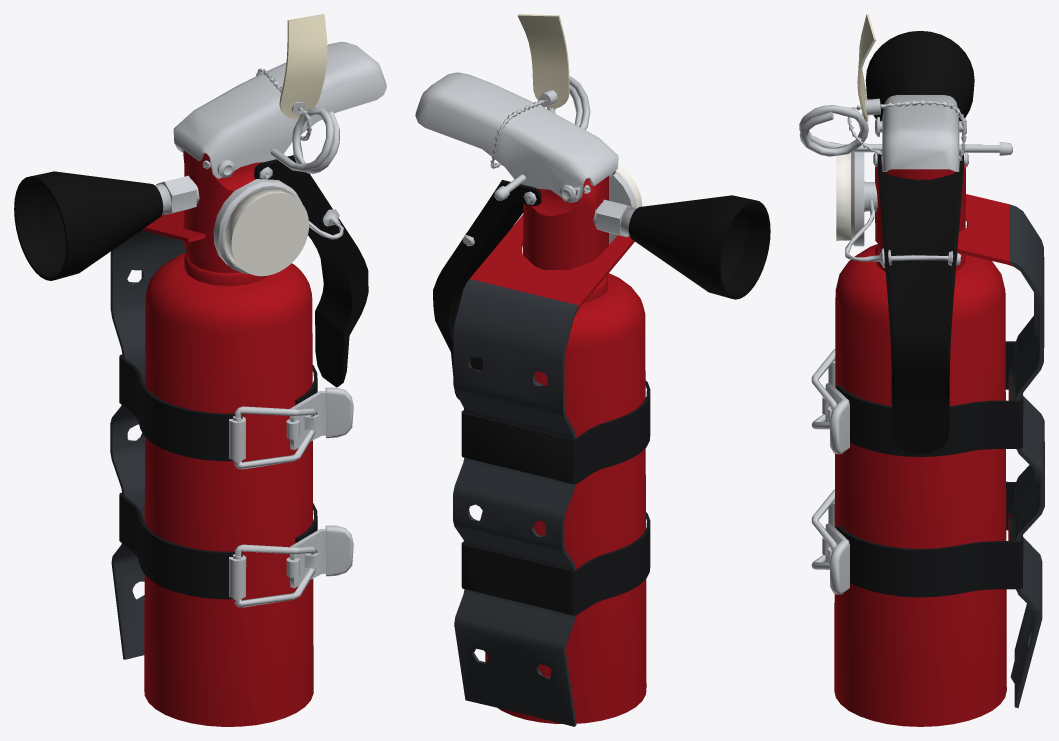
The model's file is fire-extinguisher.glb.
3 renders of one model, left to right at view 1: azimuth 30°, elevation 25°; view 2: azimuth 150°, elevation 25°; view 3: azimuth 270°, elevation 25°, orthographic. The views are drawn at different scales.
Visible parts, largest first — view 1: fire-extinguisher; view 2: fire-extinguisher; view 3: fire-extinguisher.
Boxes of the visible parts, <box> form: fire-extinguisher: <box>14,14,386,726</box>; fire-extinguisher: <box>415,14,770,726</box>; fire-extinguisher: <box>799,14,1044,726</box>.
Bounding box in the file's own units: 0.2868 × 0.5634 × 0.181.
